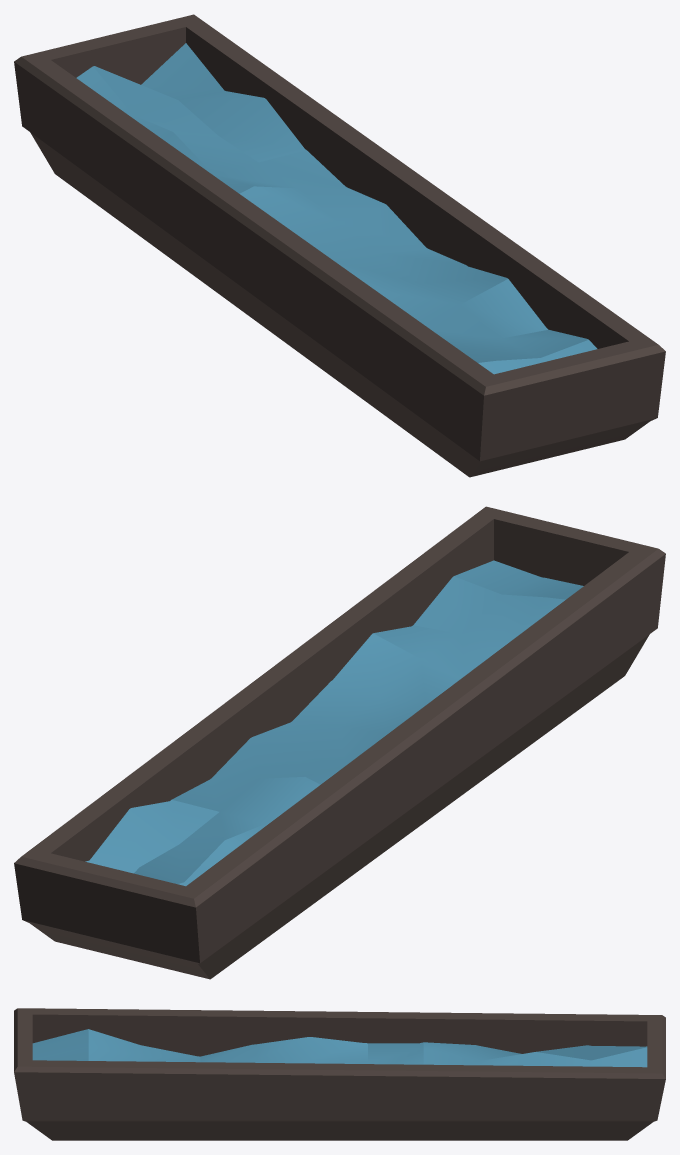
Rendered from waterdish_a003.glb.
3 renders of one model, top to bottom at view 1: azimuth 30°, elevation 25°; view 2: azimuth 150°, elevation 25°; view 3: azimuth 270°, elevation 25°, orthographic. The views are drawn at different scales.
Parts seen in each view (by area): view 1: waterdish_a003; view 2: waterdish_a003; view 3: waterdish_a003.
Part boxes in pixels (x1,y1,x2,y2): waterdish_a003: (14, 14, 665, 477); waterdish_a003: (14, 506, 665, 979); waterdish_a003: (14, 1008, 665, 1140).
Bounding box in the file's own units: 0.3902 × 0.2277 × 1.75.
Materials: 1 (1 with a texture image).
